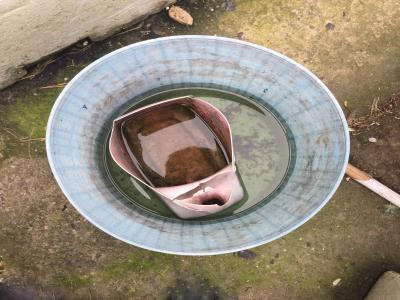bowl: (43, 34, 353, 261)
box: (107, 96, 245, 221)
